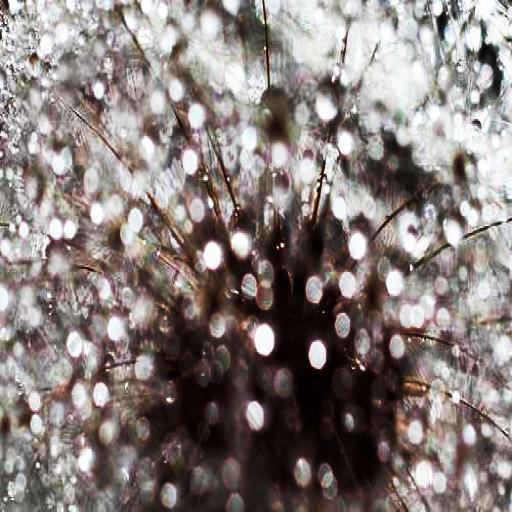dandelion: (5, 0, 509, 512)
